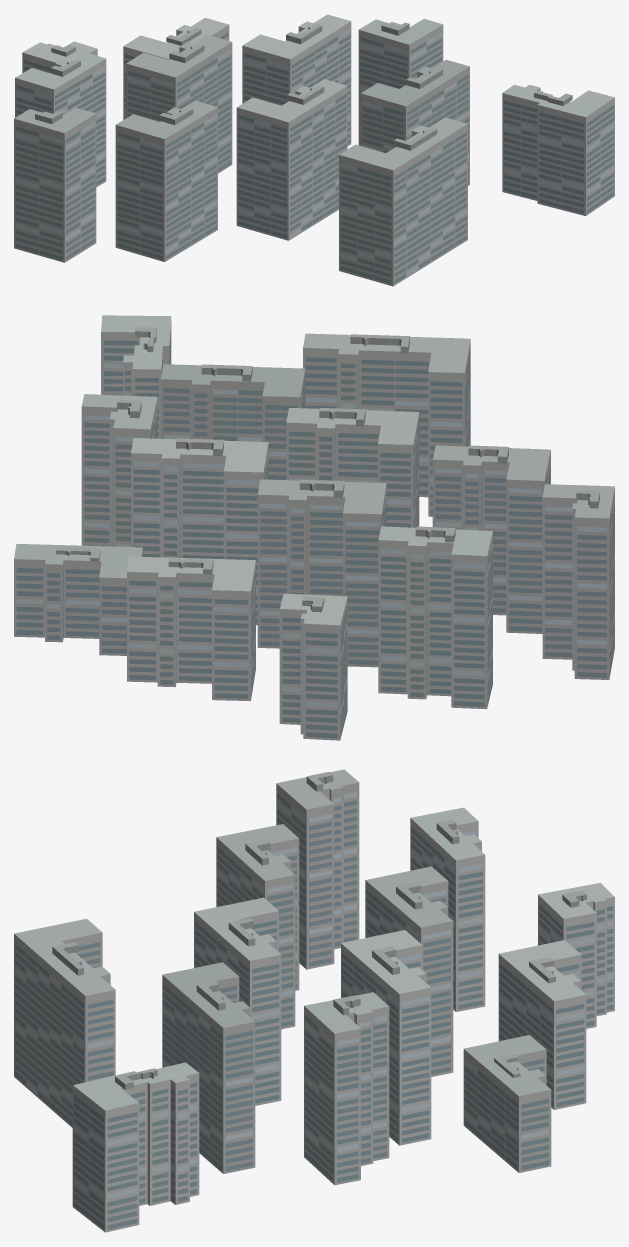
The model's file is apt-a10024365.glb.
3 renders of one model, top to bottom at view 1: azimuth 30°, elevation 25°; view 2: azimuth 150°, elevation 25°; view 3: azimuth 270°, elevation 25°, orthographic. The views are drawn at different scales.
Parts seen in each view (by area): view 1: apt-a10024365; view 2: apt-a10024365; view 3: apt-a10024365.
Boxes of the visible parts, <box> form: apt-a10024365: <box>14,14,614,286</box>; apt-a10024365: <box>14,315,614,740</box>; apt-a10024365: <box>14,769,614,1232</box>.
Size of the model in its own units: 234 by 60 by 196.
